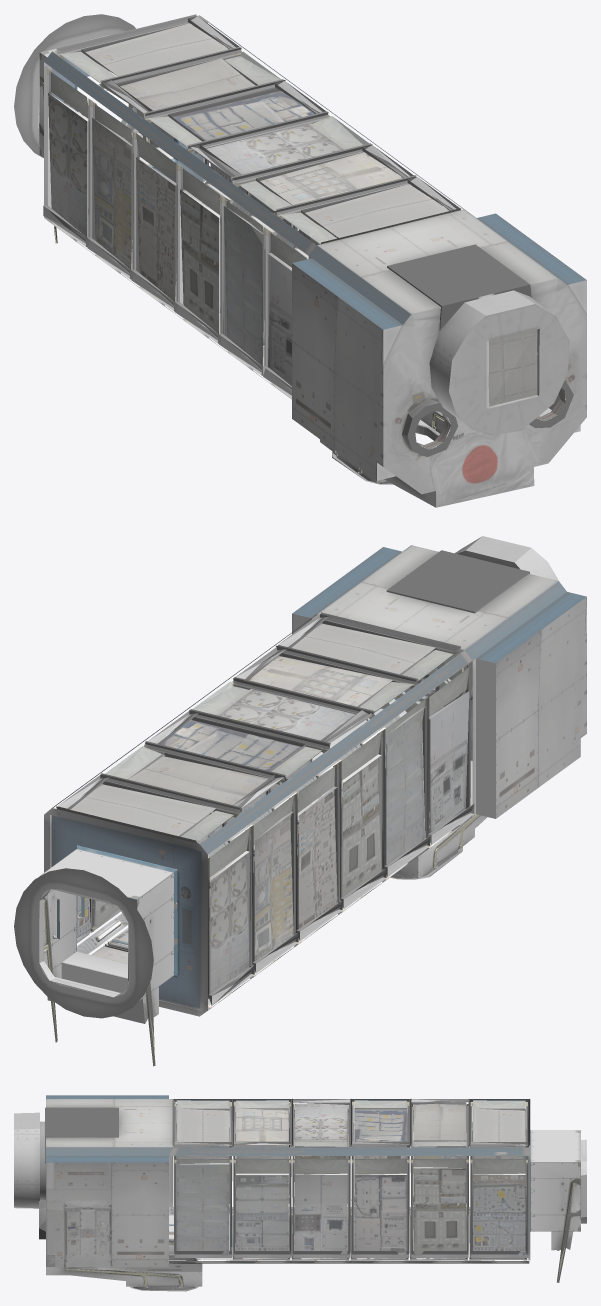
The model's file is jpm.dae.
3 renders of one model, top to bottom at view 1: azimuth 30°, elevation 25°; view 2: azimuth 150°, elevation 25°; view 3: azimuth 270°, elevation 25°, orthographic. The views are drawn at different scales.
Visible parts, largest first — view 1: JPM_CollapsedForUnity_Starboard; view 2: JPM_CollapsedForUnity_Starboard; view 3: JPM_CollapsedForUnity_Starboard.
Boxes of the visible parts, box(x1,y1,x2,y2) form: JPM_CollapsedForUnity_Starboard: box(14, 14, 586, 507); JPM_CollapsedForUnity_Starboard: box(14, 536, 586, 1066); JPM_CollapsedForUnity_Starboard: box(14, 1095, 586, 1291).
Size of the model in its own units: 2.65 by 9.58 by 2.85.
Materials: 8 (8 with a texture image).
